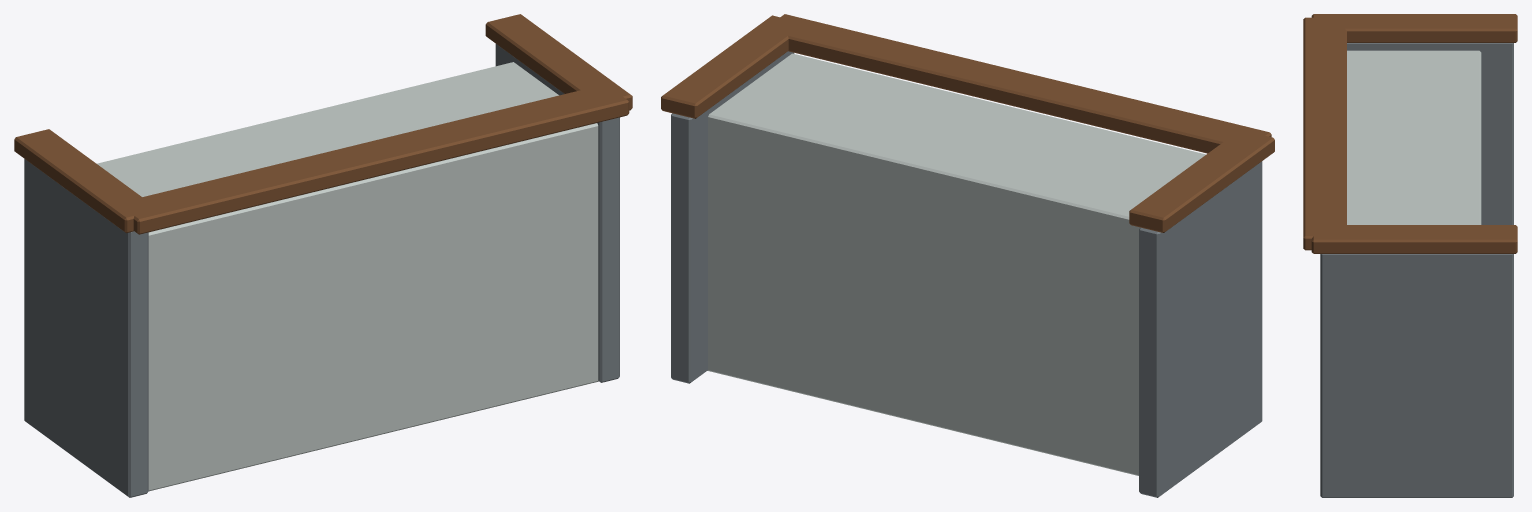
The model's file is ReceptionDesk.fbx.
3 views of the same model, side by side, from view 1: azimuth 30°, elevation 25°; view 2: azimuth 150°, elevation 25°; view 3: azimuth 270°, elevation 25° (orthographic). The views are drawn at different scales.
Visible parts, largest first — view 1: ReceptionDesk; view 2: ReceptionDesk; view 3: ReceptionDesk.
Boxes of the visible parts, x1,y1,x2,y2 form: ReceptionDesk: (14,14,632,497); ReceptionDesk: (661,14,1274,497); ReceptionDesk: (1303,14,1517,497).
Bounding box in the file's own units: 222 × 119 × 88.5.
1 material, 1 textured.
